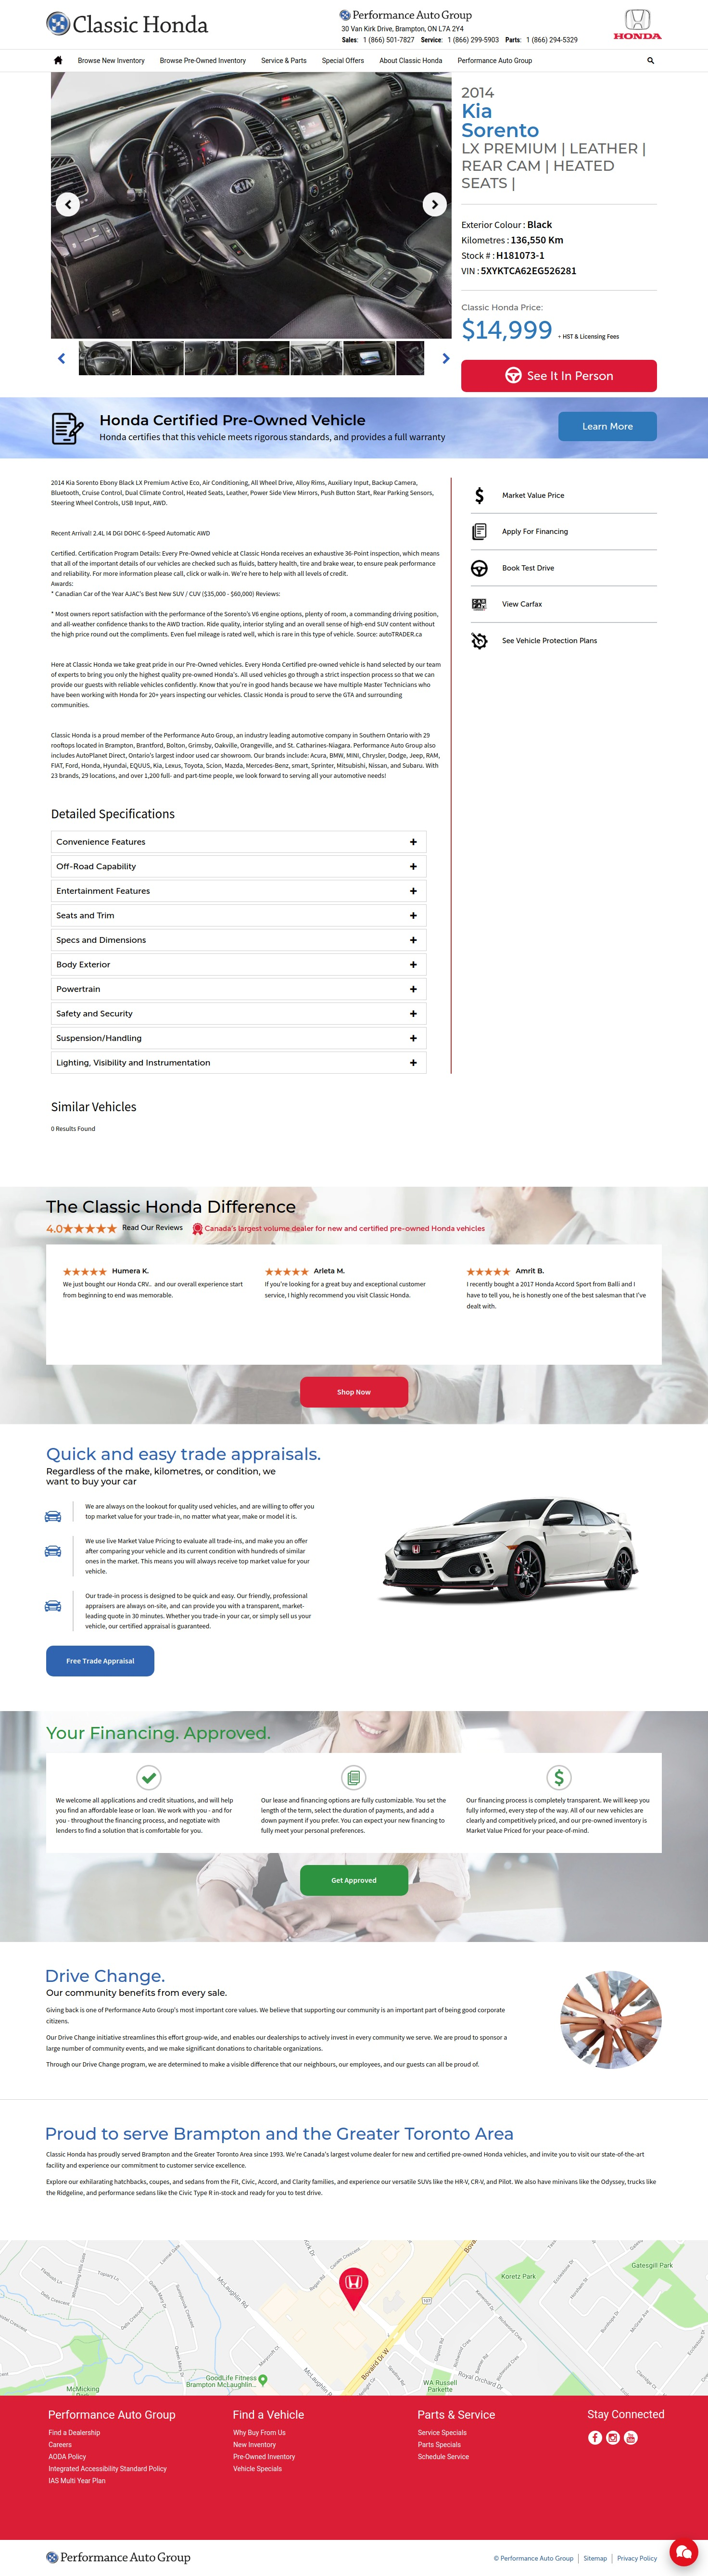car: (442, 353, 450, 365)
